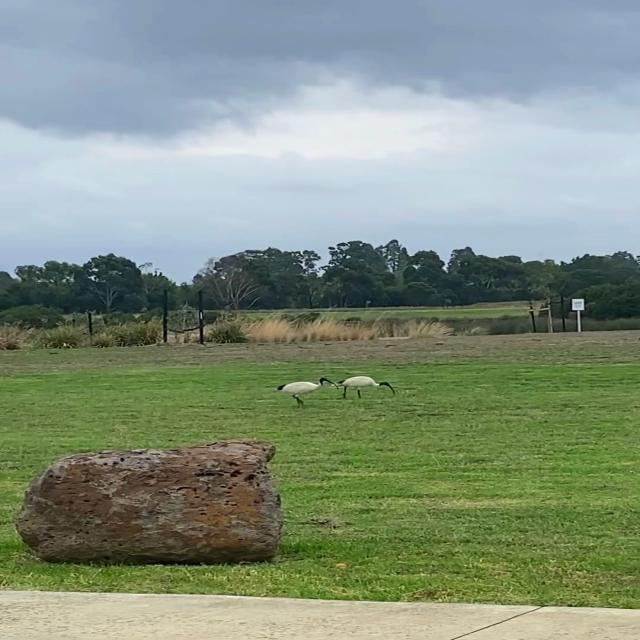Birds-Ibis: (272, 375, 342, 409), (336, 371, 402, 403)
